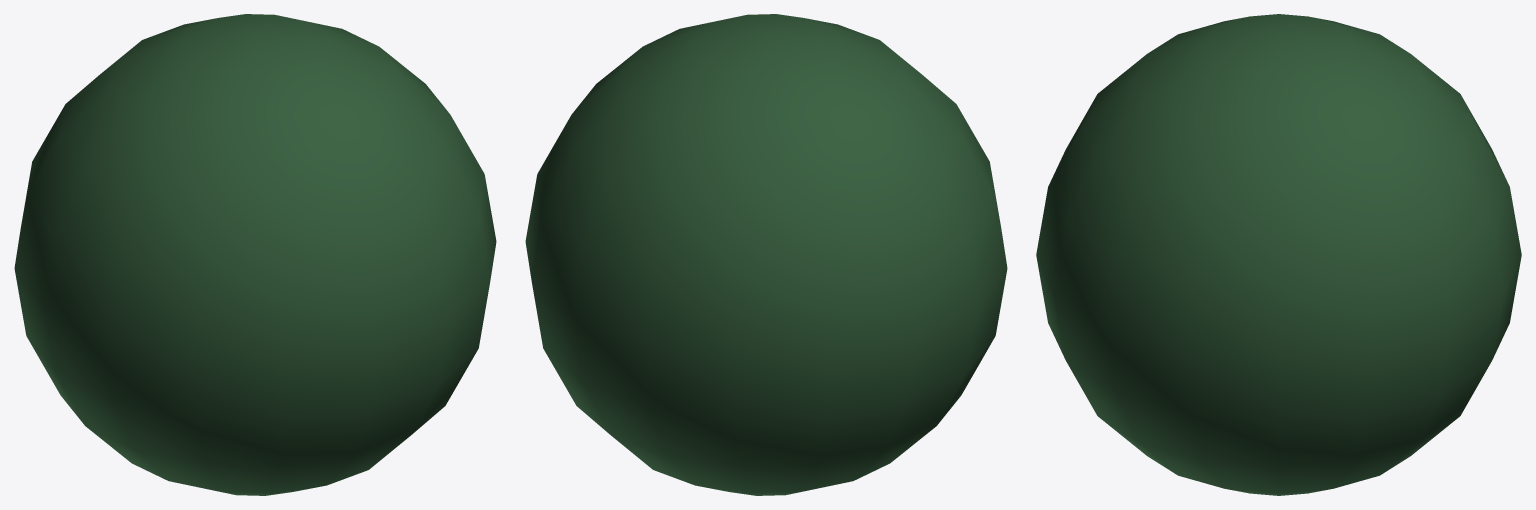
3 renders of one model, left to right at view 1: azimuth 30°, elevation 25°; view 2: azimuth 150°, elevation 25°; view 3: azimuth 270°, elevation 25°, orthographic.
Parts seen in each view (by area): view 1: sphere-leaf; view 2: sphere-leaf; view 3: sphere-leaf.
Boxes of the visible parts, x1=… form: sphere-leaf: x1=14, y1=14, x2=496, y2=495; sphere-leaf: x1=525, y1=14, x2=1007, y2=495; sphere-leaf: x1=1036, y1=14, x2=1521, y2=495.
Size of the model in its own units: 1 by 1 by 1.
